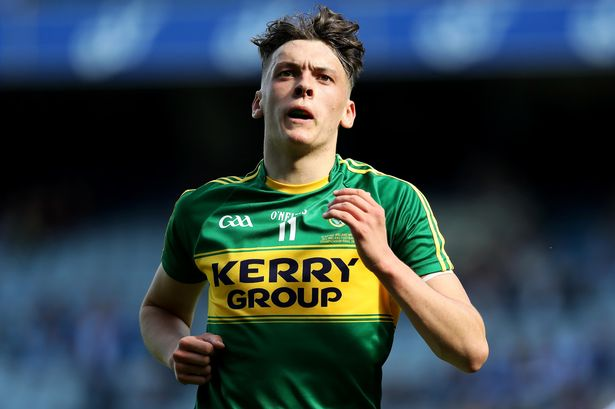player: (165, 13, 475, 393)
